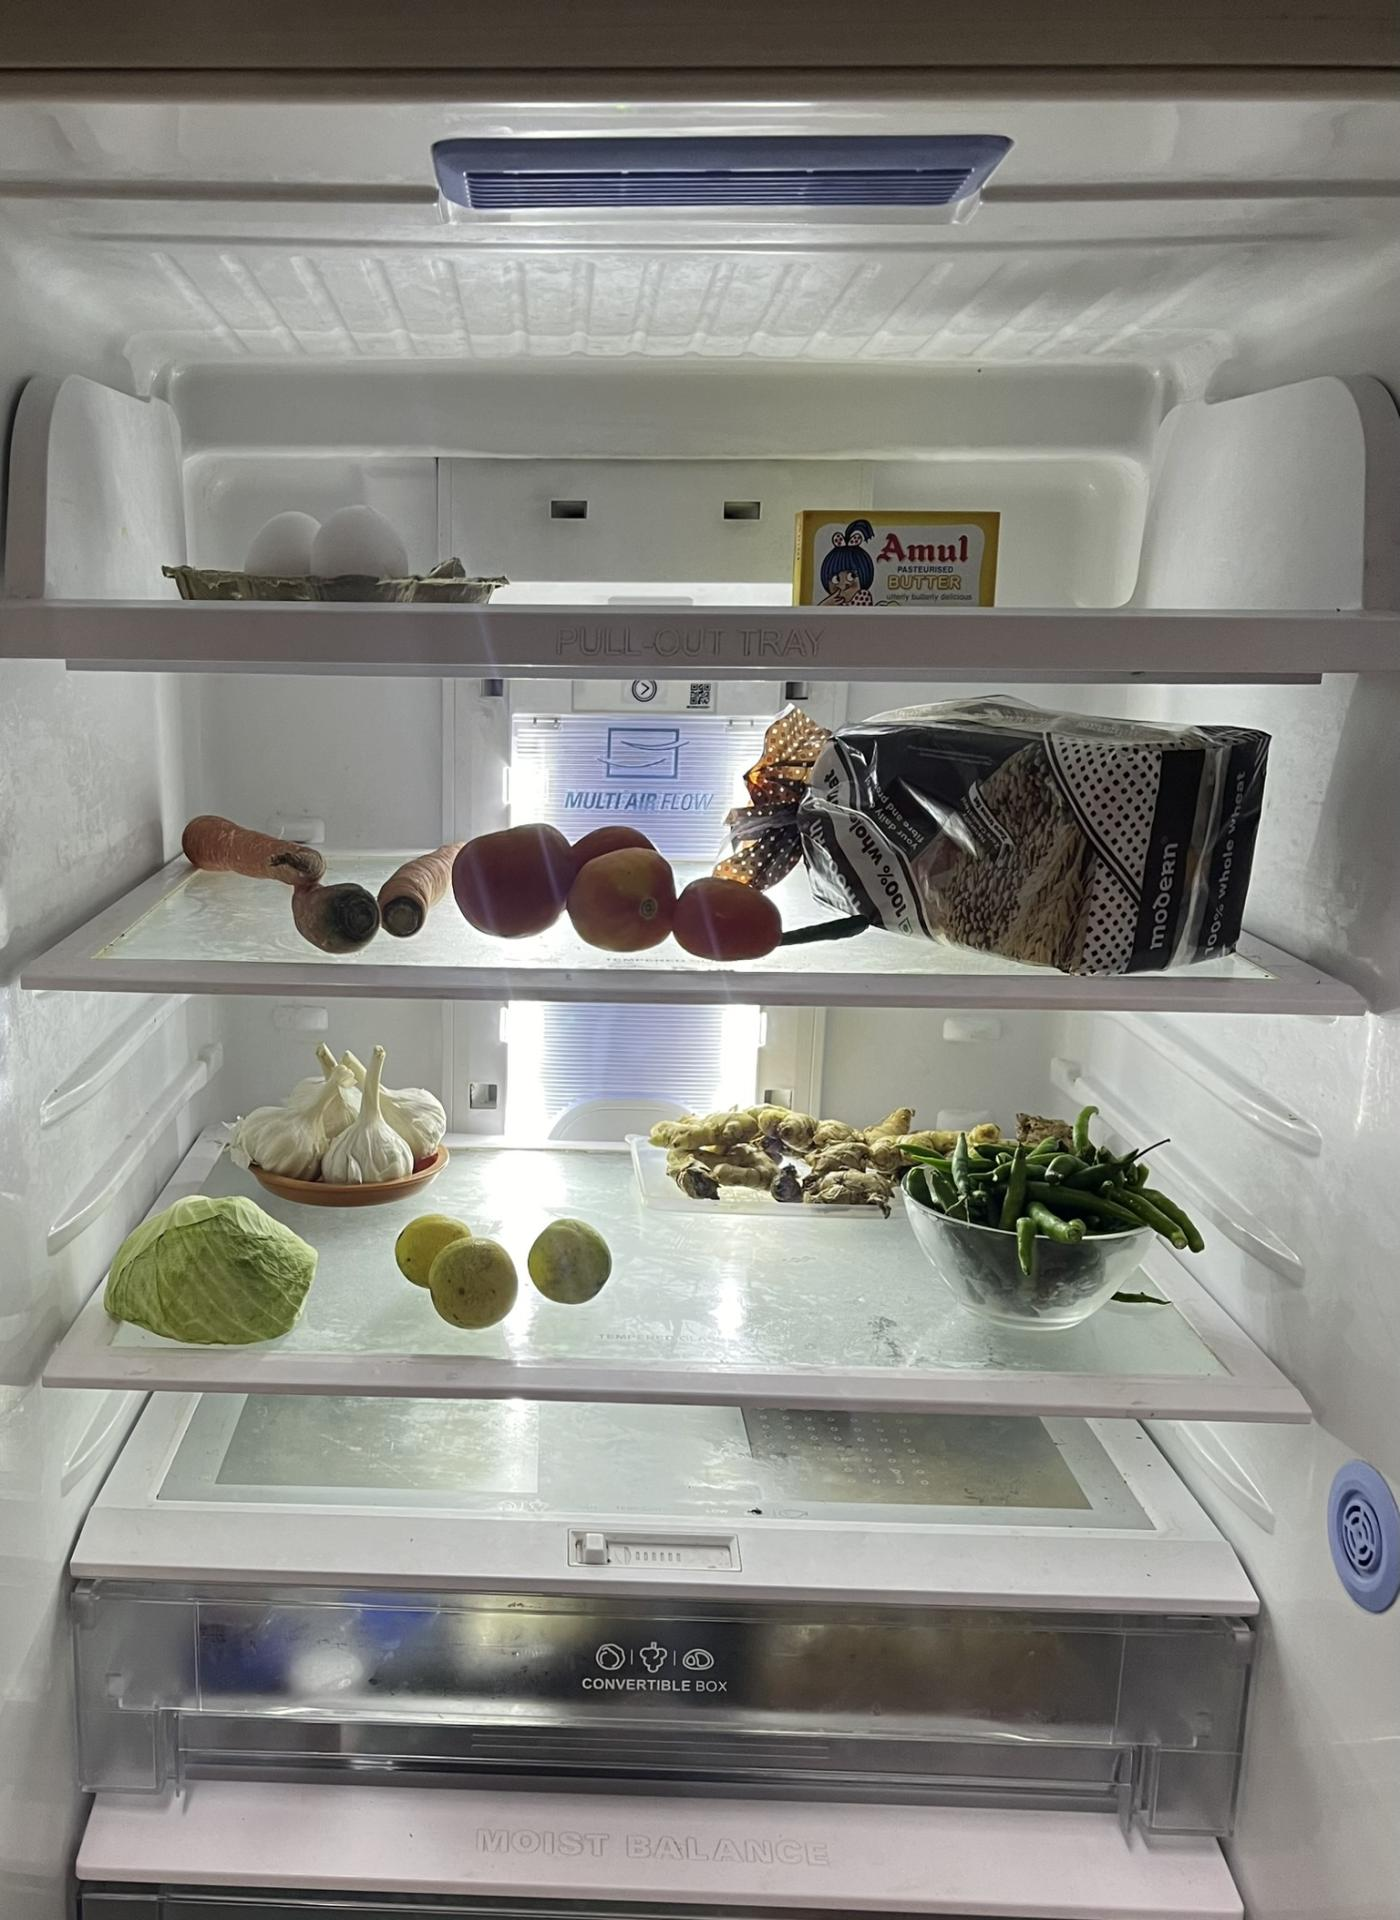bread: (714, 721, 1276, 967)
butter: (796, 501, 1002, 608)
cabbage: (94, 1190, 318, 1348)
carrots: (176, 808, 468, 961)
chillies: (930, 1128, 1218, 1325)
egg: (225, 496, 407, 590)
garlic: (242, 1033, 449, 1188)
ginger: (662, 1091, 966, 1221)
lemon: (394, 1209, 523, 1337), (525, 1206, 620, 1315)
tomato: (456, 820, 777, 966)
